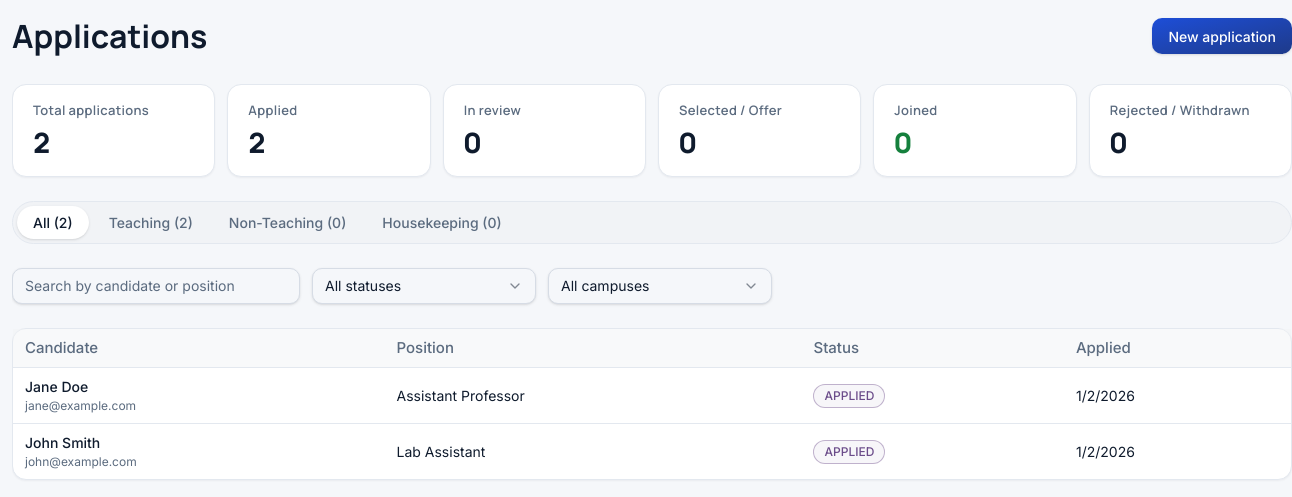
ApplicationsListPage › narrows the list client-side by a candidate-or-position search
Expected: the link "Jane Doe" is shown, [25,378,88,395]
Expected: the link "John Smith" is shown, [25,434,100,451]
In the field with placeholder "Search by candidate or position": (156, 286) [12,268,300,304], type "lab assistant"
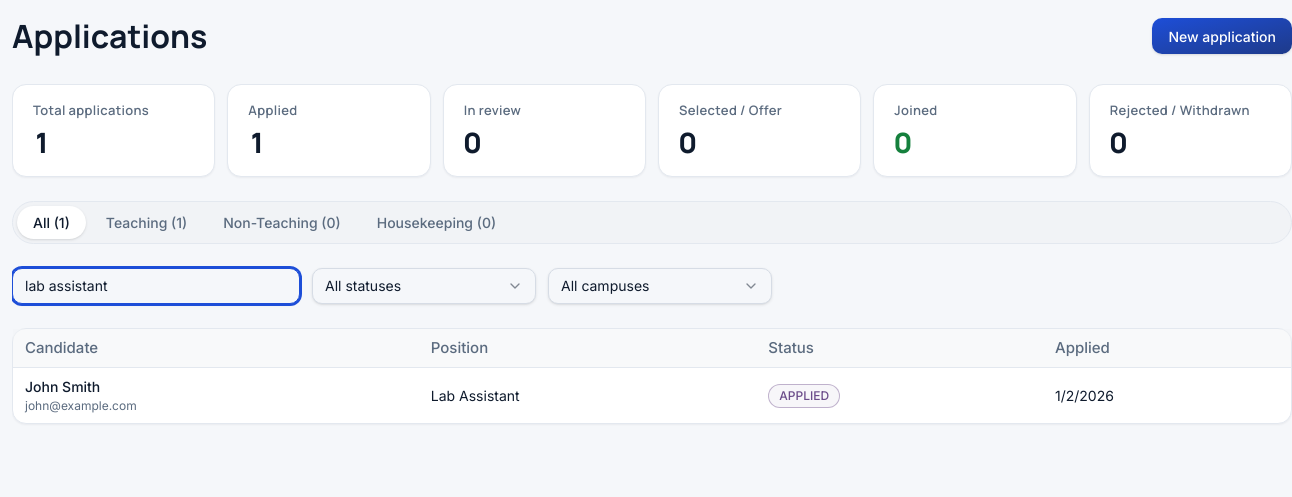
Expected: the link "John Smith" is shown, [25,378,100,395]
Expected: the link "Jane Doe" is gone
